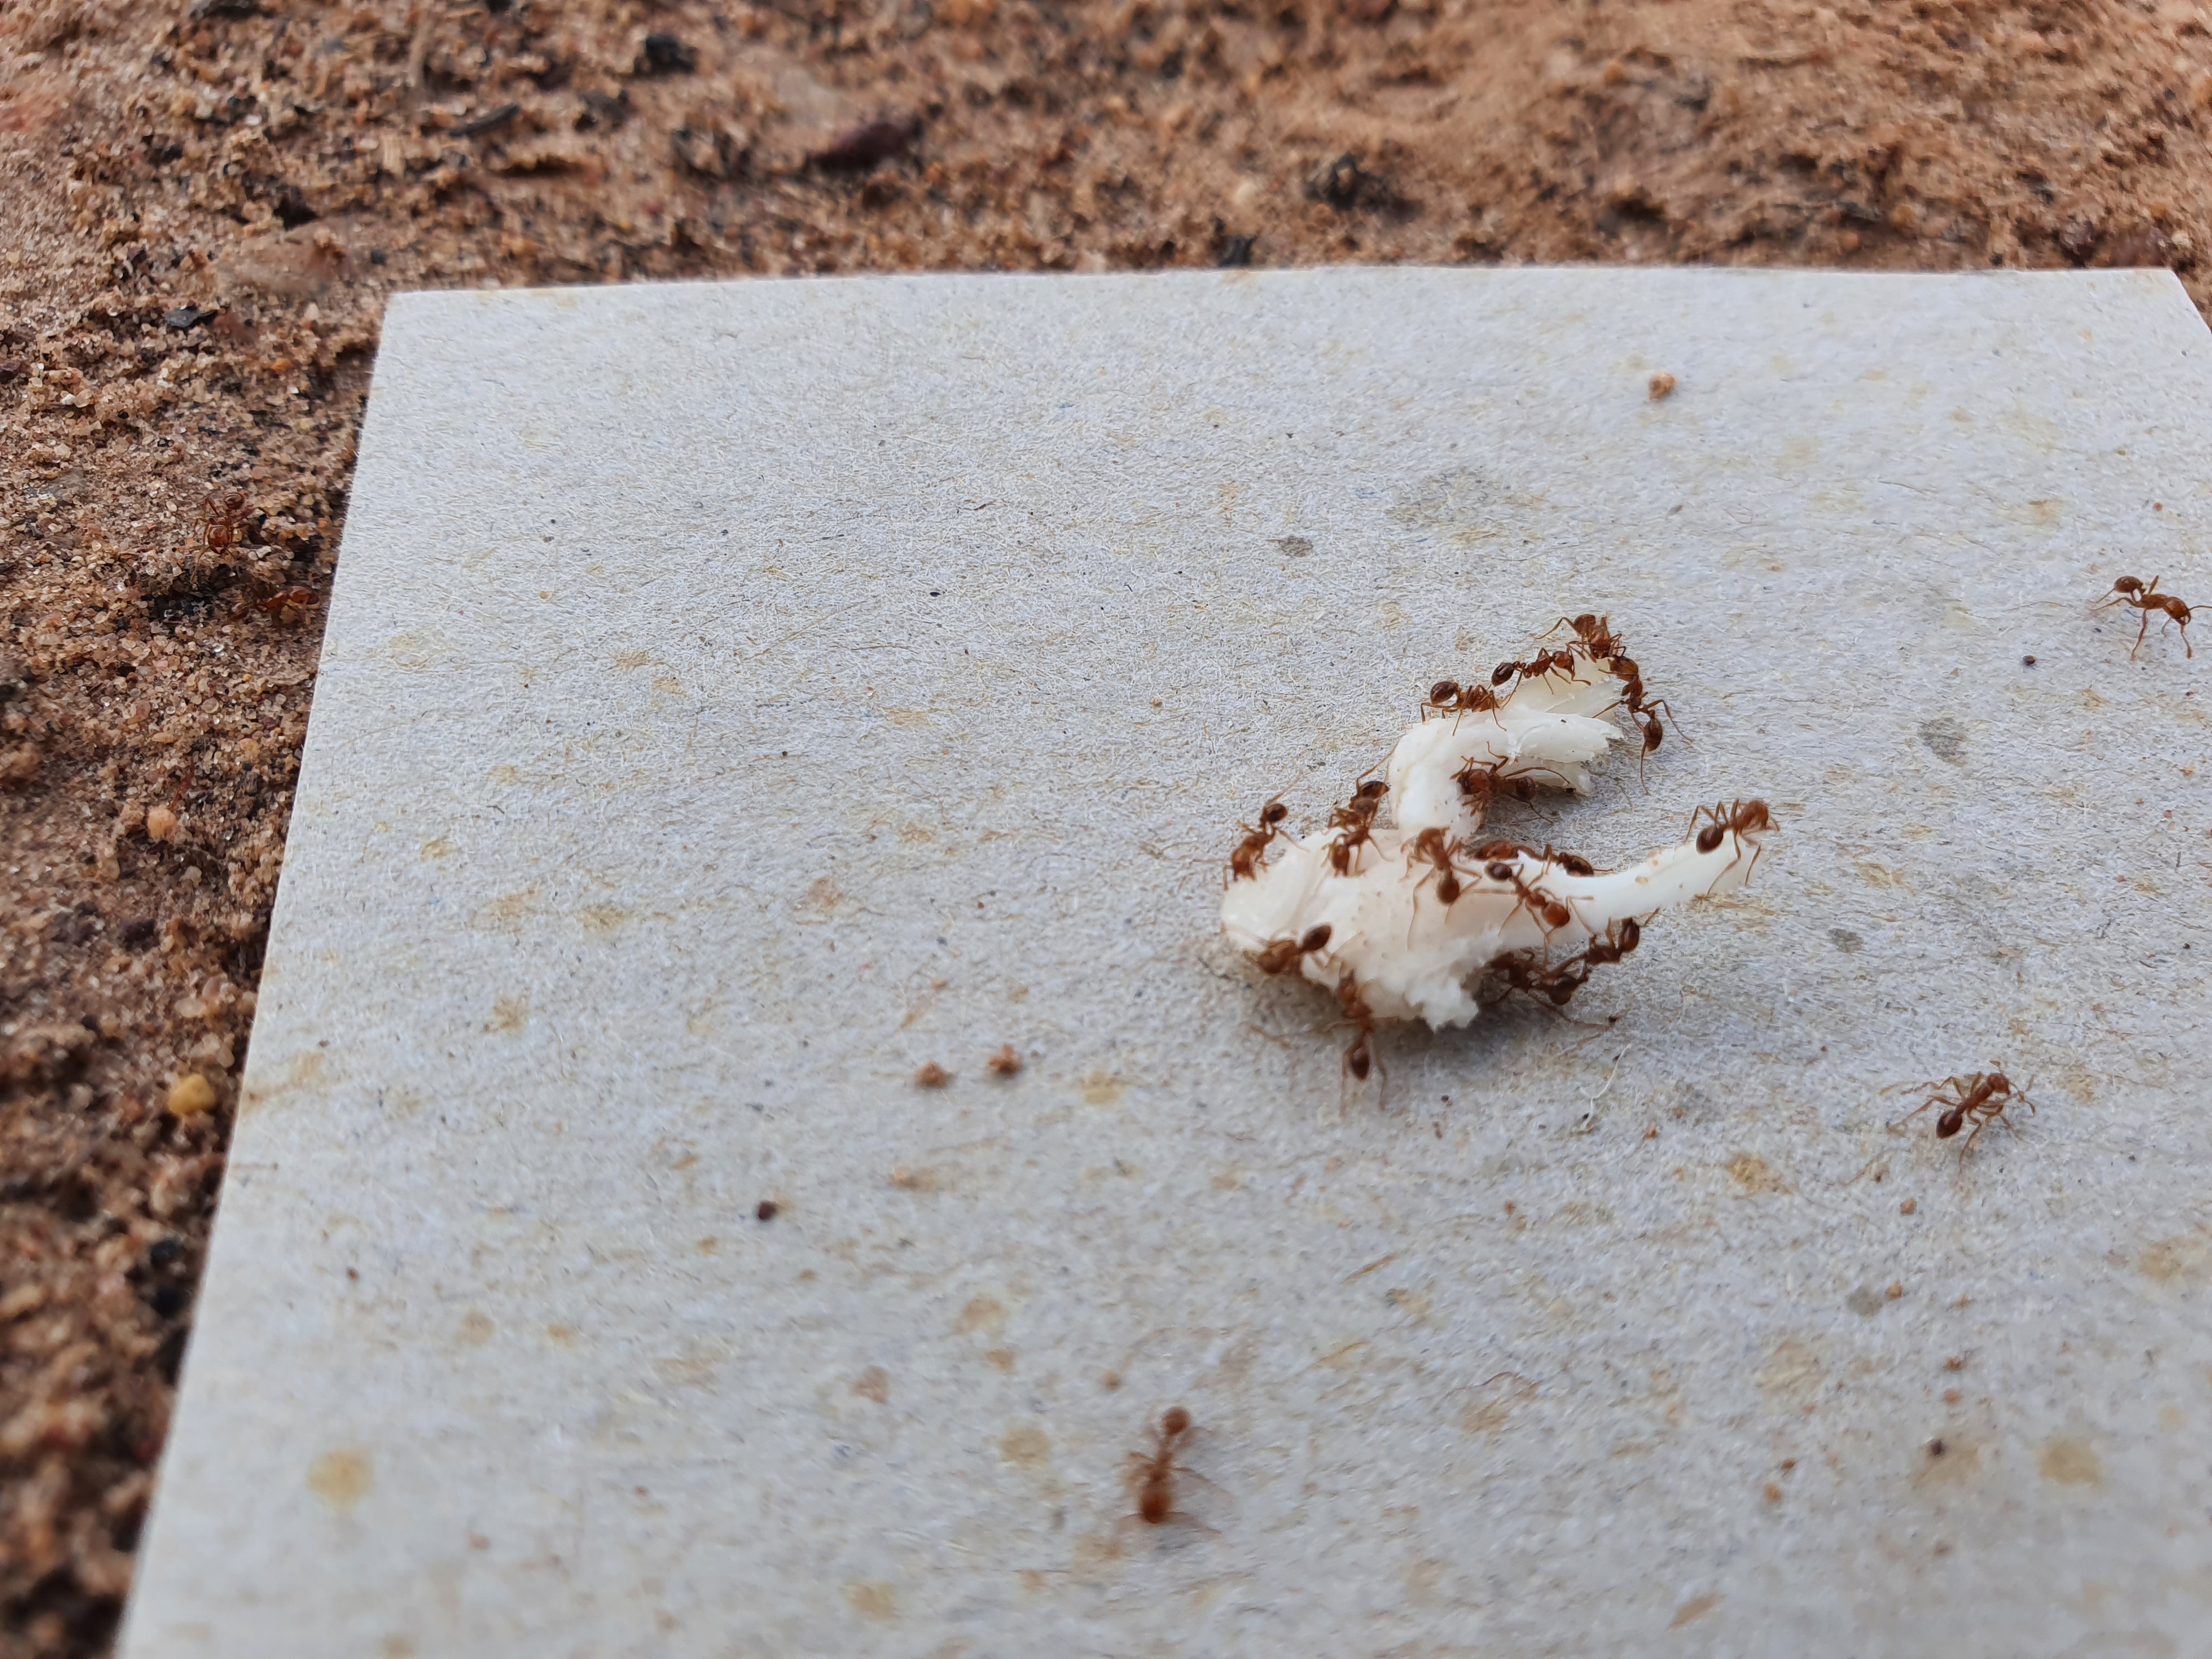Solenopsis_geminata: (1096, 1368, 1245, 1567), (1878, 1039, 2048, 1202), (1667, 770, 1799, 911), (1301, 742, 1407, 911), (2080, 547, 2212, 681), (1585, 648, 1700, 795), (1197, 770, 1310, 913), (1442, 735, 1592, 823), (1393, 812, 1477, 945), (1474, 849, 1580, 948), (1409, 667, 1508, 742), (1486, 629, 1581, 697)
